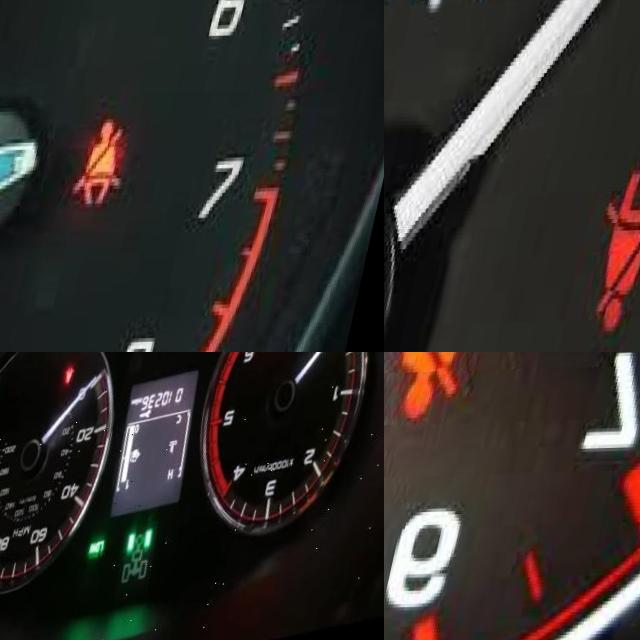Seat Belt: (384, 352, 519, 419), (604, 168, 640, 335), (86, 119, 145, 209)
